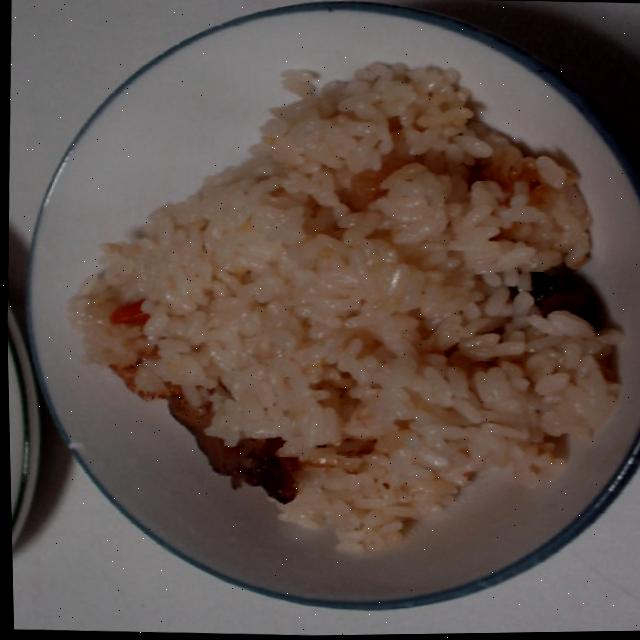米饭主食: (118, 49, 607, 538)
